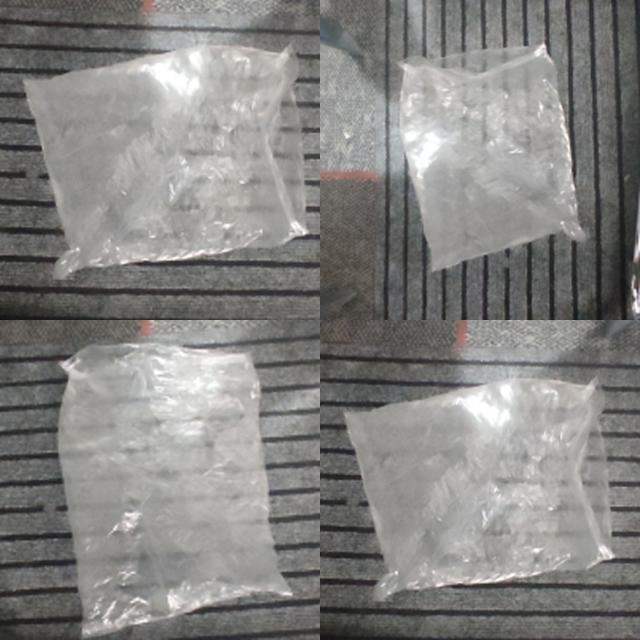Single-layer Plastic: (59, 344, 290, 636), (25, 45, 306, 279), (345, 379, 612, 600), (400, 45, 585, 270)
